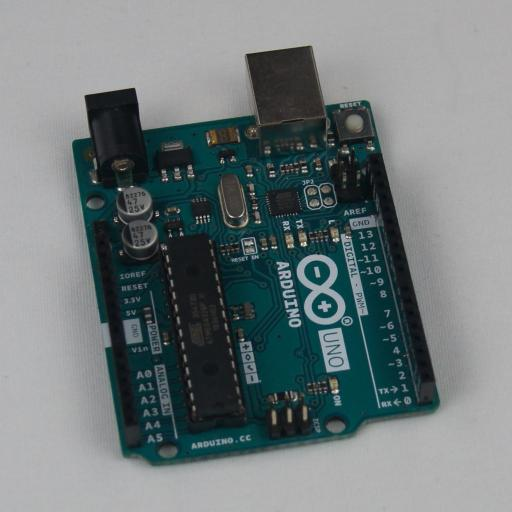Arduino Uno -Green-: (72, 46, 440, 466)
